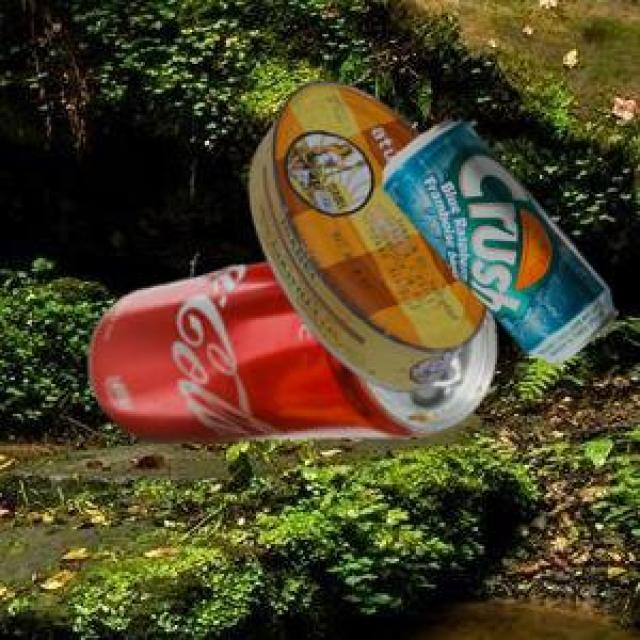Can: (246, 78, 483, 389), (86, 259, 494, 438), (379, 116, 613, 364)
